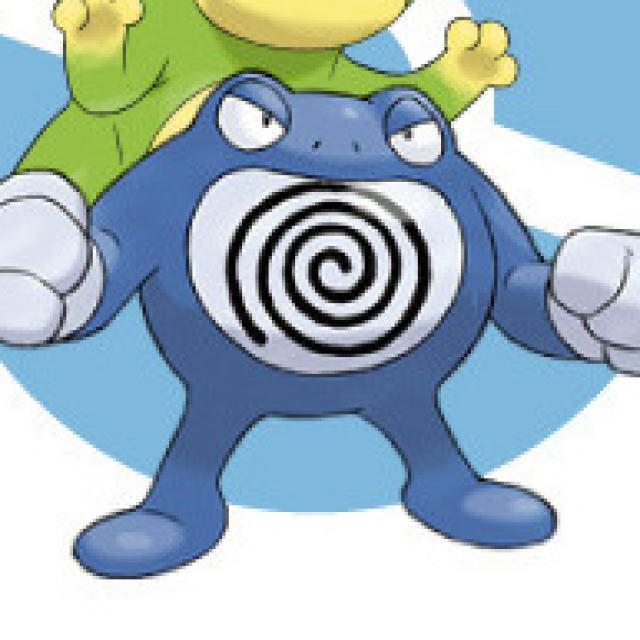Poliwrath: (43, 83, 584, 555)
